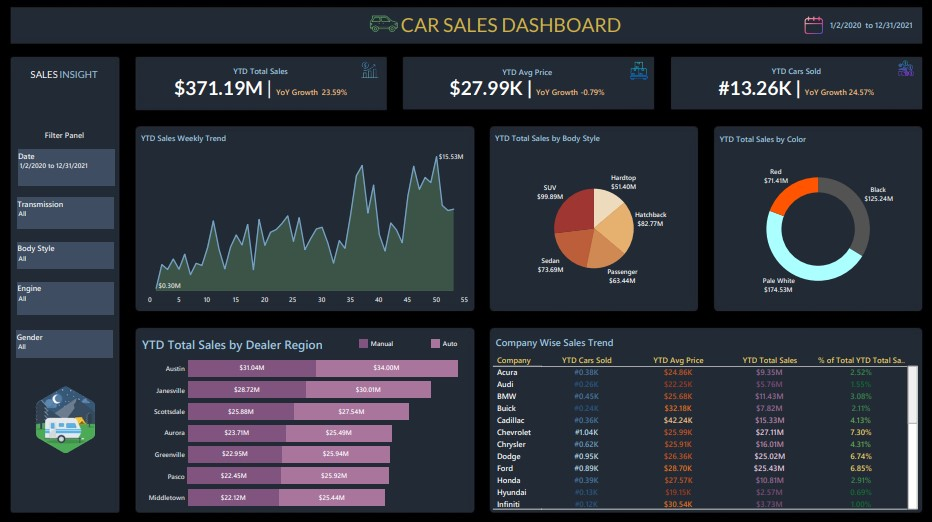

The dashboard page shown, as its layout file describes it:
{"tool":"tableau","page":{"name":"Dashboard 1","canvas":[1600,900],"ordinal":0},"visuals":[{"type":"image","param":"Image/Car Sales Background.jpg","box":[8,8,1584,884]},{"type":"image","param":"Image/Car Icon.png","box":[620,30,84,53]},{"type":"text","box":[687,39,373,39]},{"type":"worksheet","title":"Date Range","mark":"Automatic","box":[1396,39,157,41]},{"type":"image","param":"Image/calendar.png","box":[1361,41,33,35]},{"type":"worksheet","title":"YTD Total Sales","mark":"Automatic","box":[251,116,412,80]},{"type":"worksheet","title":"YTD Avg Price","mark":"Automatic","box":[699,116,408,77]},{"type":"worksheet","title":"YTD Cars Sold","mark":"Automatic","box":[1145,116,409,80]},{"type":"image","param":"Image/Sales Icon.png","box":[613,117,48,31]},{"type":"image","param":"Image/Cars Sold Icon.png","box":[1509,118,46,25]},{"type":"image","param":"Image/Avg Price Icon.png","box":[1063,119,45,31]},{"type":"text","box":[55,126,148,30]},{"type":"text","box":[48,226,163,30]},{"type":"worksheet","title":"YTD Sales Weekly Trend","mark":"Area","rows":["Calculation_0463447790637056","Calculation_0463447790637056"],"cols":["Date"],"box":[253,232,553,299]},{"type":"worksheet","title":"YTD Total Sales by Body Style","mark":"Pie","box":[843,232,337,298]},{"type":"worksheet","title":"YTD Total Sales by Color","mark":"Pie","rows":["Calculation_0314189430669313","Calculation_0314189430669313"],"box":[1217,234,336,296]},{"type":"filter","title":"YTD Sales Weekly Trend","param":"[federated.098vj1o0mobech14e6eyt1a9pz9s].[none:Date:qk]","box":[52,266,160,61]},{"type":"filter","title":"YTD Sales Weekly Trend","param":"[federated.098vj1o0mobech14e6eyt1a9pz9s].[none:Transmission:nk]","box":[51,342,160,52]},{"type":"filter","title":"YTD Sales Weekly Trend","param":"[federated.098vj1o0mobech14e6eyt1a9pz9s].[none:Body Style:nk]","box":[52,406,160,44]},{"type":"filter","title":"YTD Sales Weekly Trend","param":"[federated.098vj1o0mobech14e6eyt1a9pz9s].[none:Engine:nk]","box":[51,464,160,54]},{"type":"filter","title":"YTD Sales Weekly Trend","param":"[federated.098vj1o0mobech14e6eyt1a9pz9s].[none:Gender:nk]","box":[51,536,160,45]},{"type":"worksheet","title":"Company Wise Sales Trend","mark":"Automatic","rows":["Company"],"box":[844,570,707,296]},{"type":"worksheet","title":"YTD Total Sales by Dealer Region","mark":"Automatic","rows":["Dealer_Region"],"cols":["Calculation_0463447790637056"],"box":[255,571,551,292]},{"type":"legend","title":"YTD Total Sales by Dealer Region","param":"[federated.098vj1o0mobech14e6eyt1a9pz9s].[none:Transmission:nk]","box":[618,579,245,24]}]}

Visuals, with their boxes in screenshot pixels (x1, y1, x2, y2), scaled from the page's 1600x900 canvas onto the 932x522 screenshot:
image: region(5, 5, 927, 517)
image: region(361, 17, 410, 48)
text: region(400, 23, 617, 45)
"Date Range" worksheet: region(813, 23, 905, 46)
image: region(793, 24, 812, 44)
"YTD Total Sales" worksheet: region(146, 67, 386, 114)
"YTD Avg Price" worksheet: region(407, 67, 645, 112)
"YTD Cars Sold" worksheet: region(667, 67, 905, 114)
image: region(357, 68, 385, 86)
image: region(879, 68, 906, 83)
image: region(619, 69, 645, 87)
text: region(32, 73, 118, 90)
text: region(28, 131, 123, 148)
"YTD Sales Weekly Trend" worksheet (Area marks): region(147, 135, 469, 308)
"YTD Total Sales by Body Style" worksheet (Pie marks): region(491, 135, 687, 307)
"YTD Total Sales by Color" worksheet (Pie marks): region(709, 136, 905, 307)
"YTD Sales Weekly Trend" filter: region(30, 154, 123, 190)
"YTD Sales Weekly Trend" filter: region(30, 198, 123, 229)
"YTD Sales Weekly Trend" filter: region(30, 235, 123, 261)
"YTD Sales Weekly Trend" filter: region(30, 269, 123, 300)
"YTD Sales Weekly Trend" filter: region(30, 311, 123, 337)
"Company Wise Sales Trend" worksheet: region(492, 331, 903, 502)
"YTD Total Sales by Dealer Region" worksheet: region(149, 331, 469, 501)
"YTD Total Sales by Dealer Region" legend: region(360, 336, 503, 350)
